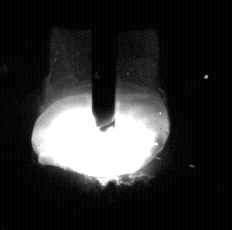arame: (92, 0, 117, 132)
poca: (32, 0, 170, 230)
